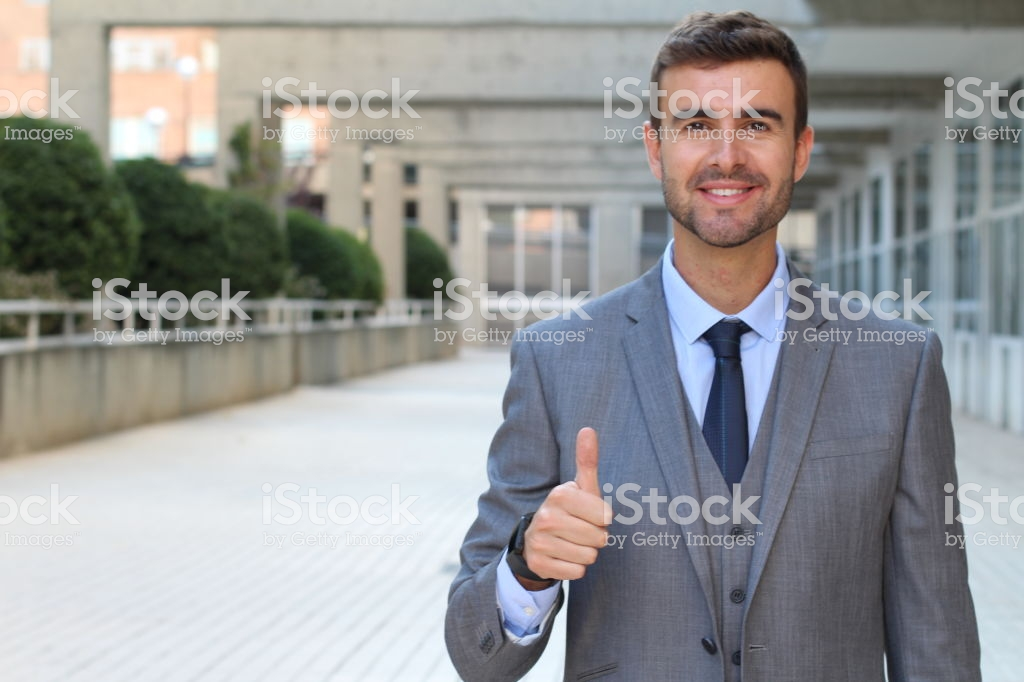thumbsup: (522, 425, 615, 584)
